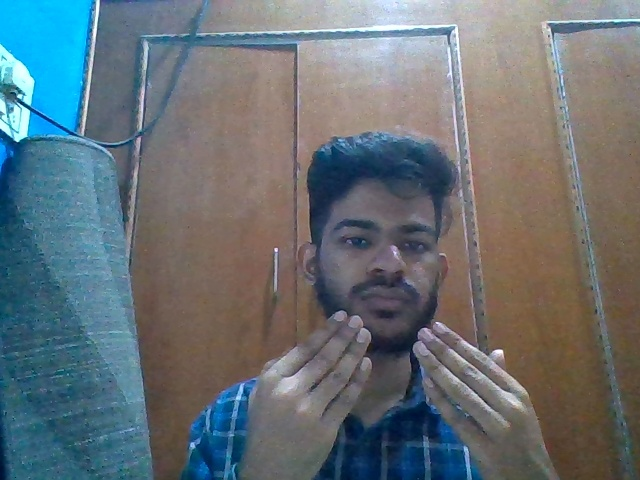thanks: (240, 306, 551, 477)
